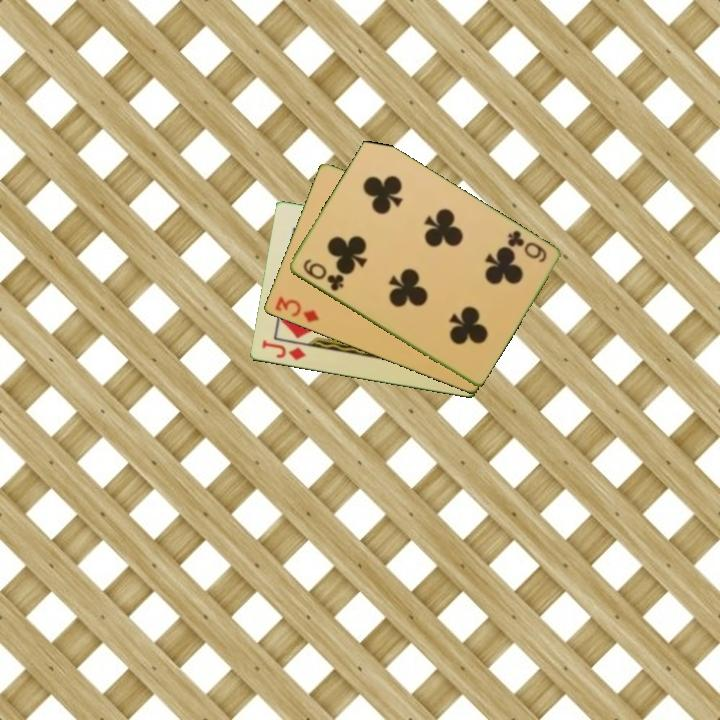3d: (271, 293, 322, 325)
6c: (299, 256, 347, 294), (503, 227, 549, 266)
Jd: (258, 336, 308, 364)
